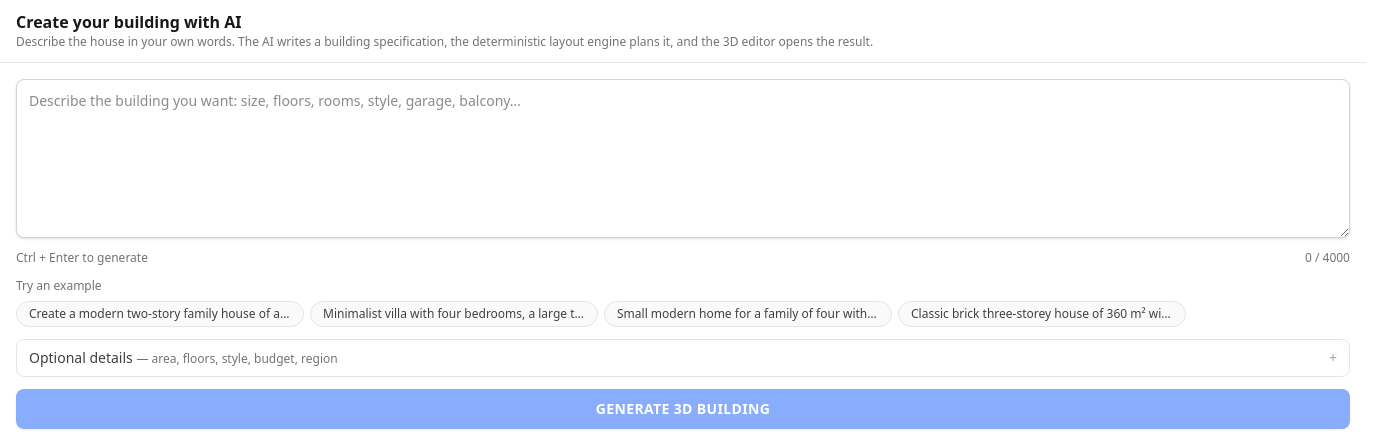
Test: AIGeneratorPanel › keeps the primary action disabled until there is a description
Expected: the button "Generate 3D building" is disabled, [16, 388, 1350, 428]
Type "Villa" into the text box named "Building description" at (683, 158), box [16, 79, 1350, 238]
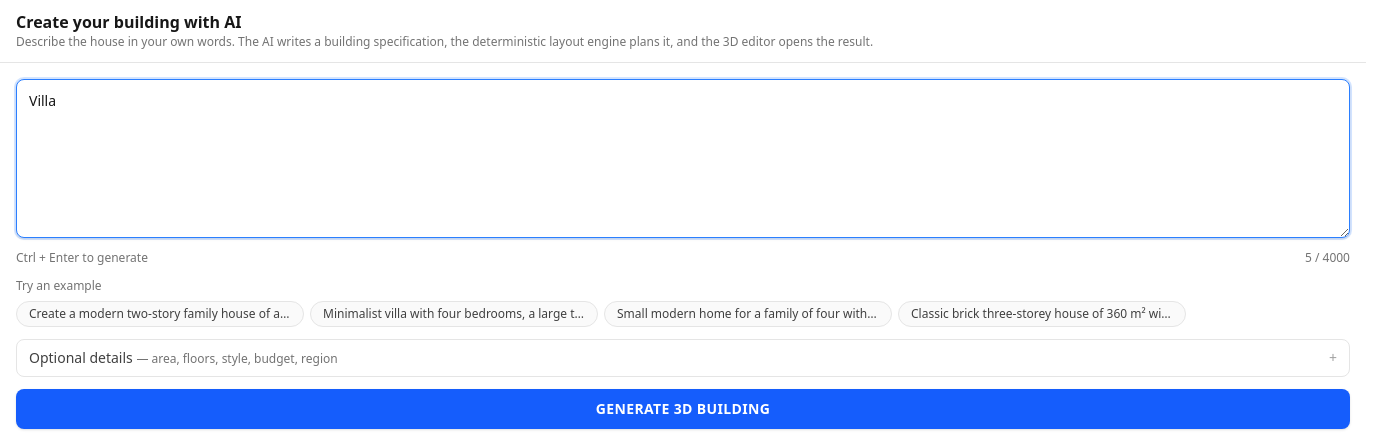
Expected: the button "Generate 3D building" is enabled, [16, 388, 1350, 428]
